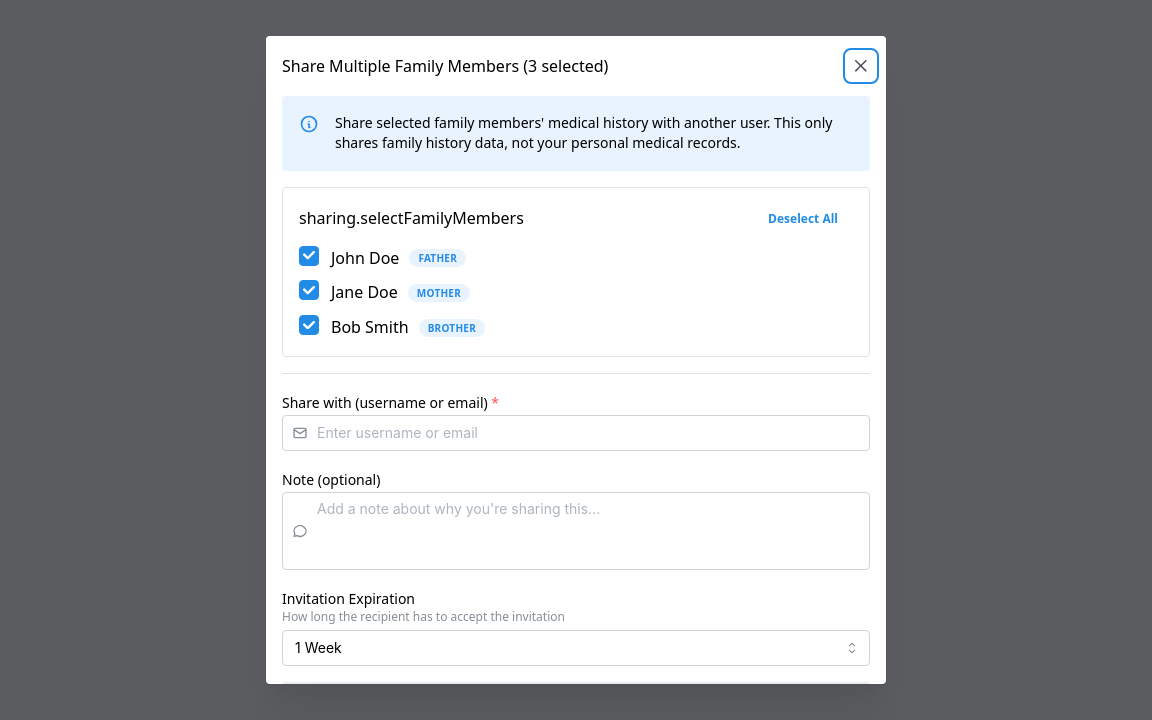
Test: FamilyHistorySharingModal Component › Bulk Mode - Family Member Selection › should handle individual member selection toggle
Click the checkbox labelled "John Doe father" at (309,256), box [299,246,319,266]
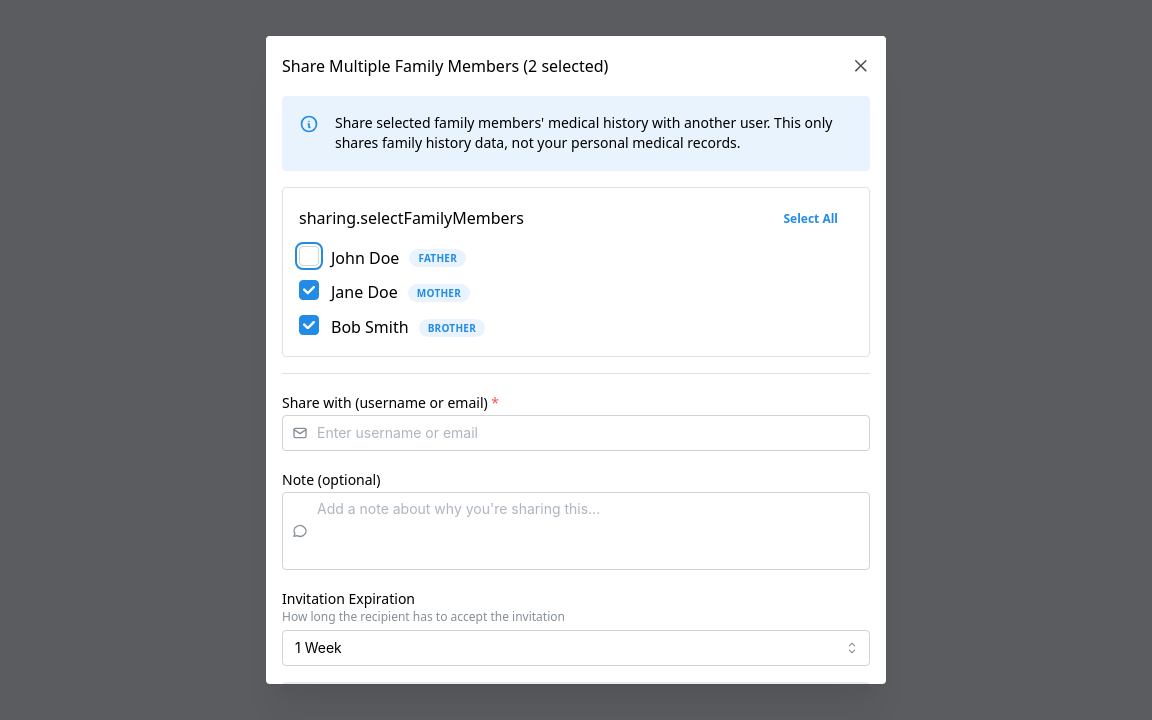
Check: the checkbox labelled "John Doe father" is not checked
Check: the heading "Share Multiple Family Members (2 selected)" is shown, box [282,58,608,74]
Click the checkbox labelled "John Doe father" at (309,256), box [299,246,319,266]
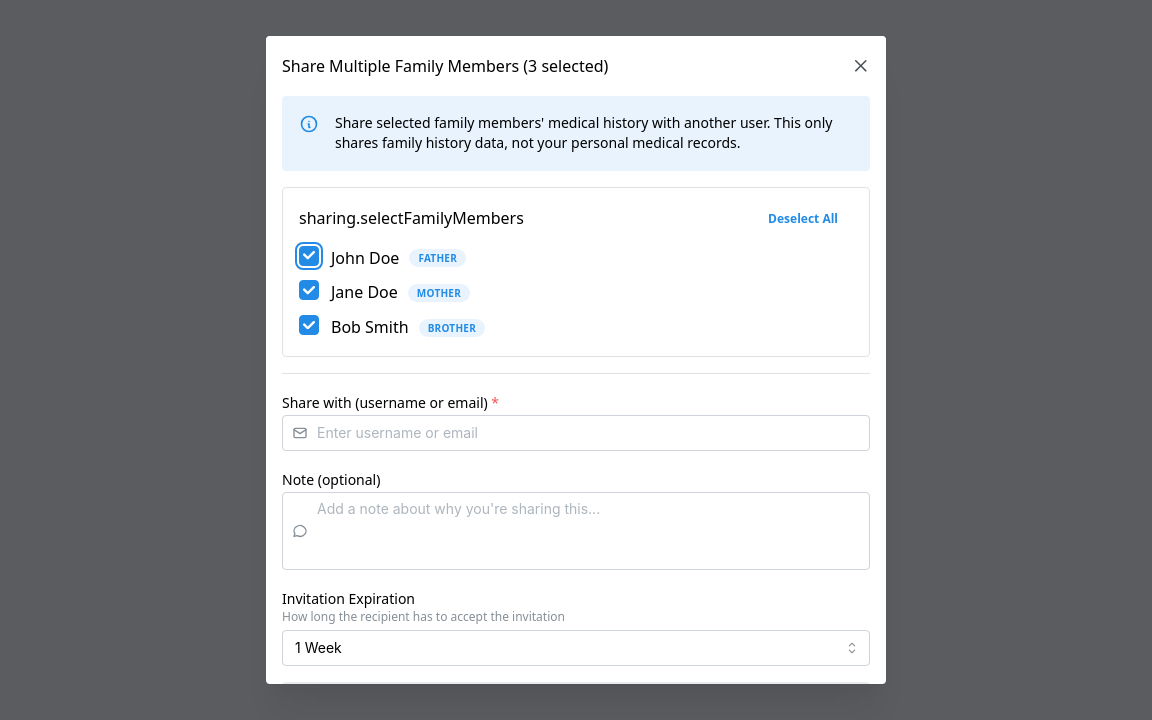
Check: the checkbox labelled "John Doe father" is checked, box [299,246,319,266]
Check: the heading "Share Multiple Family Members (3 selected)" is shown, box [282,58,608,74]
